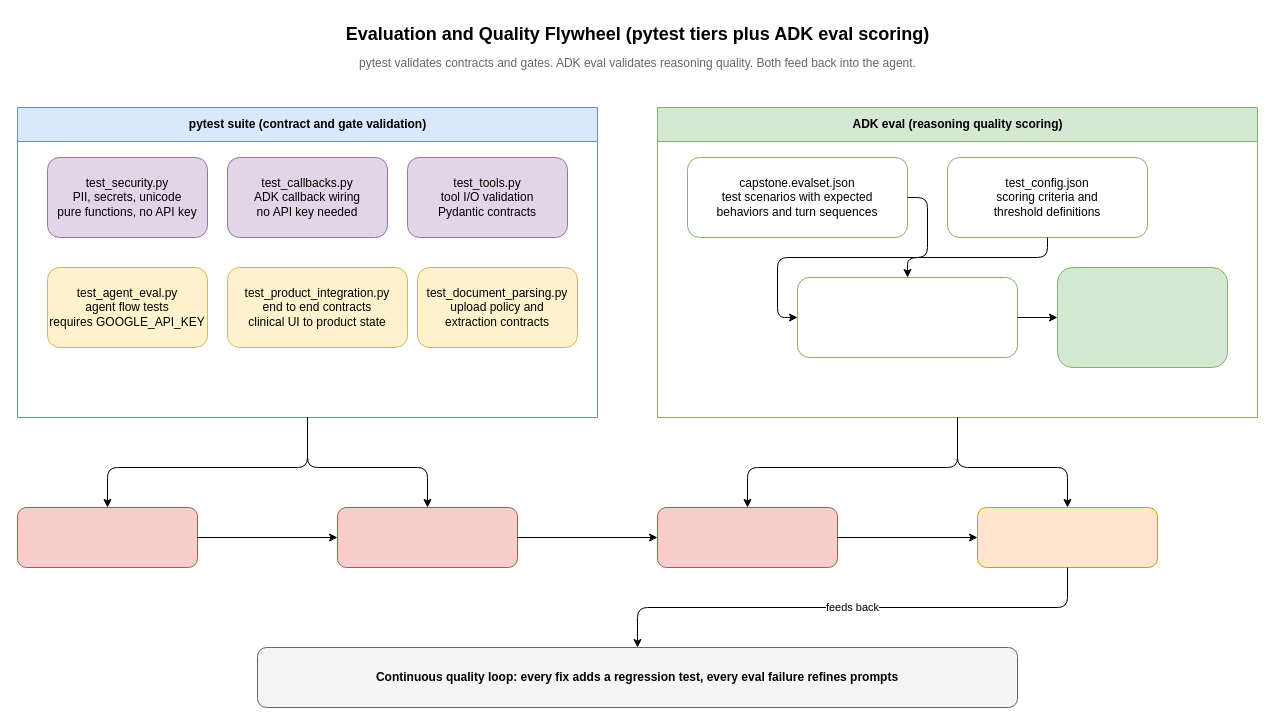
The diagram is 1275 pixels wide and 725 high, and some of its shapes have lost their labels. Each missing label, with the centre of its shape:
adk eval capstone_agent runs scenarios against the live Gemini model: the point at 907,317
Eval results feed back to evalset and test scenarios: the point at 747,537
Failures update security rules: the point at 107,537
Improved agent quality raises the eval bar: the point at 1067,537
Score regressions refine agent prompts: the point at 427,537
Scoring metrics response quality, safety compliance, tool use accuracy: the point at 1142,317
